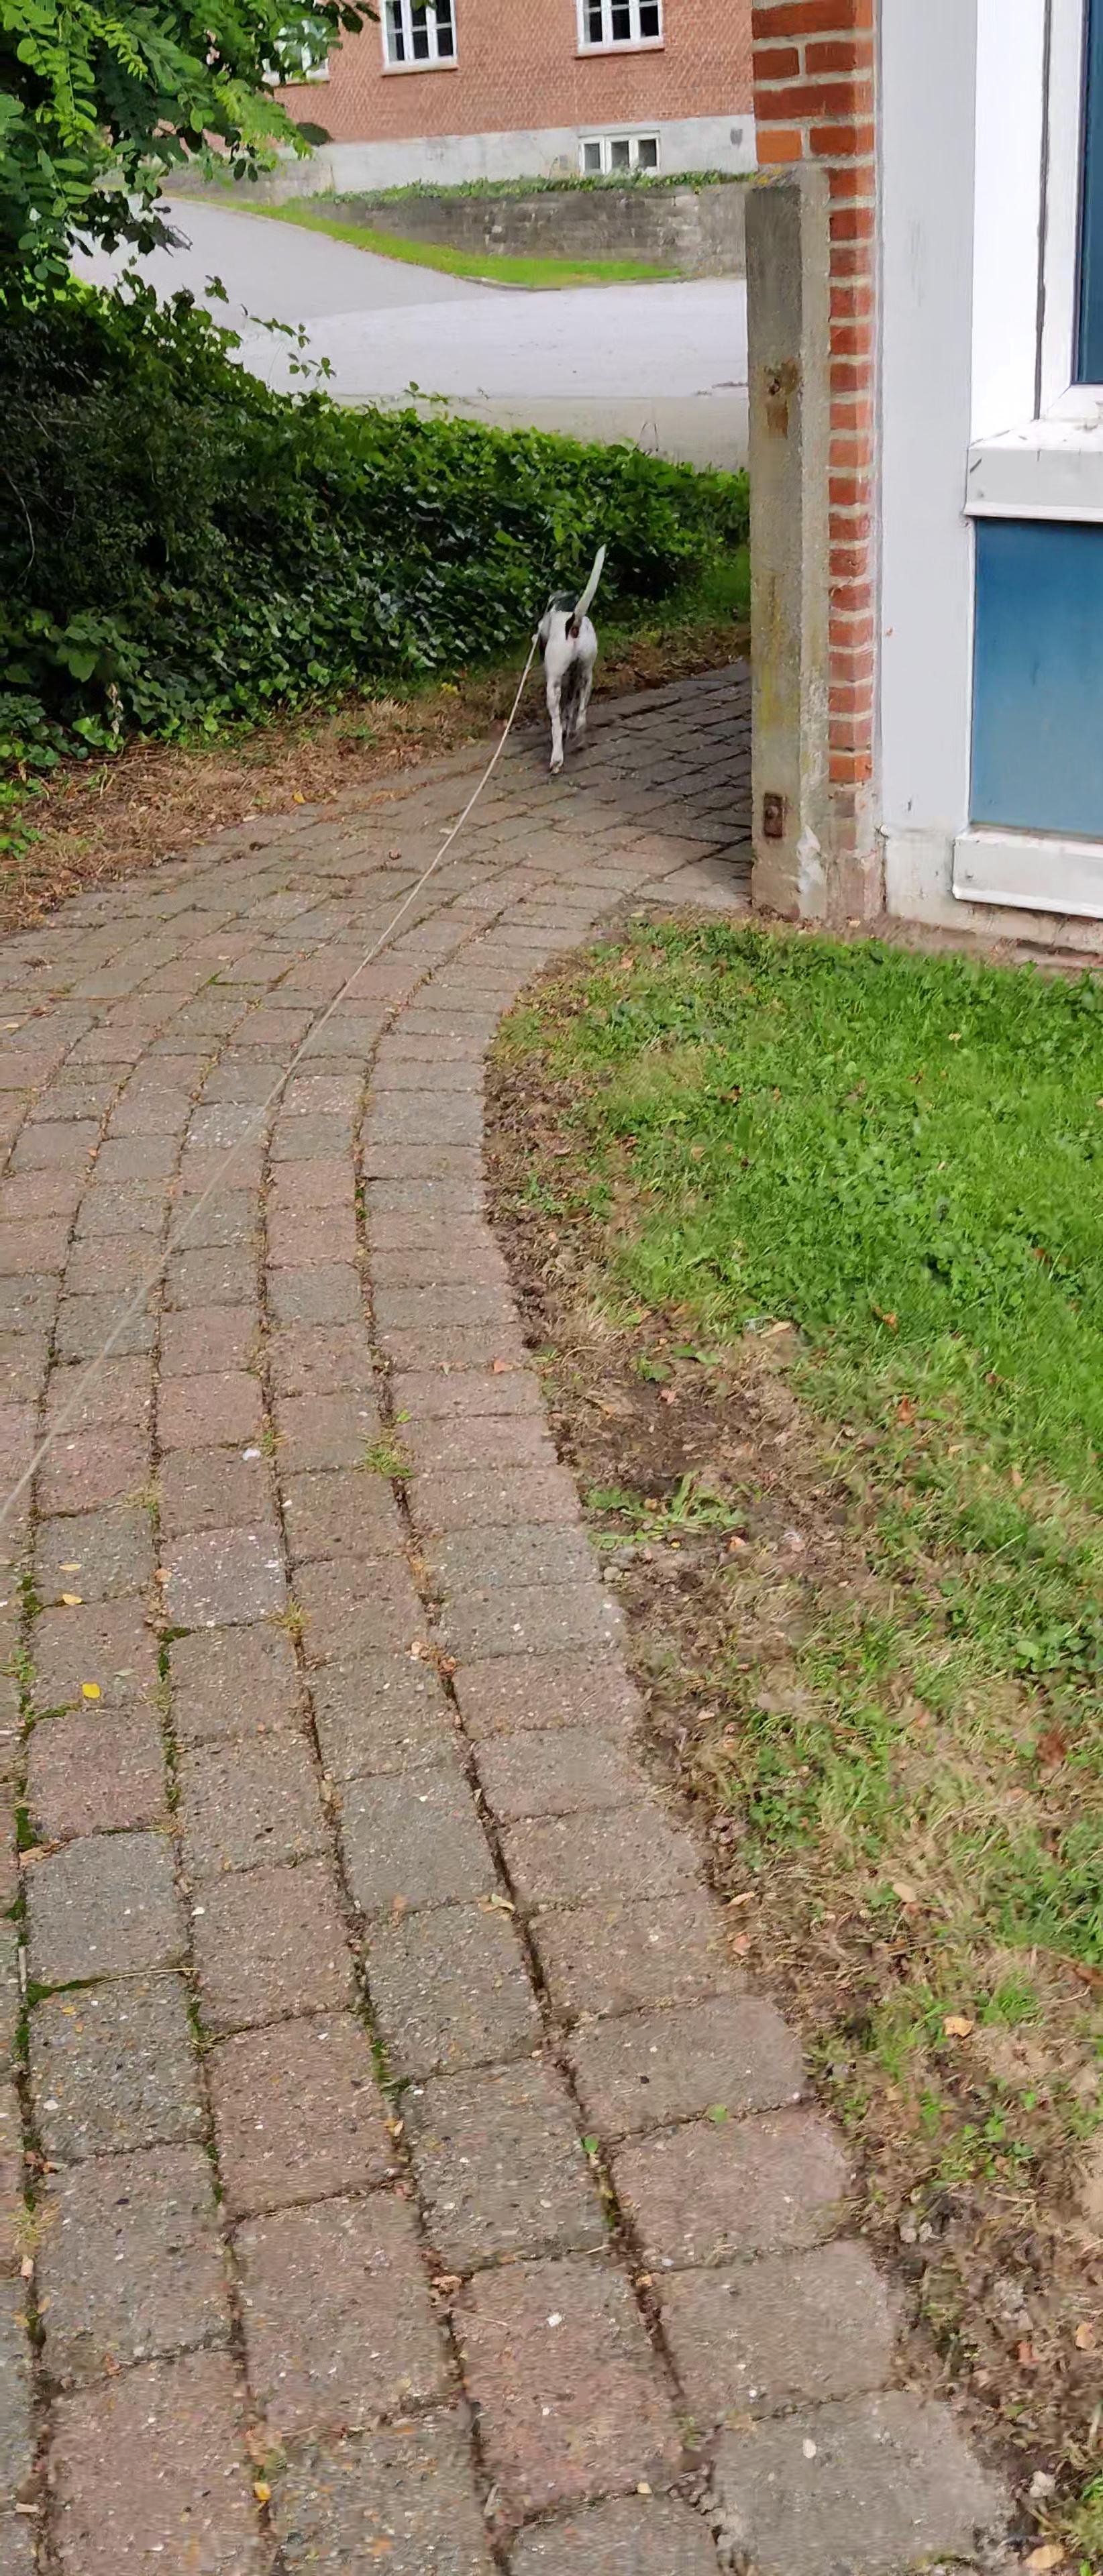Dog: (511, 527, 633, 790)
